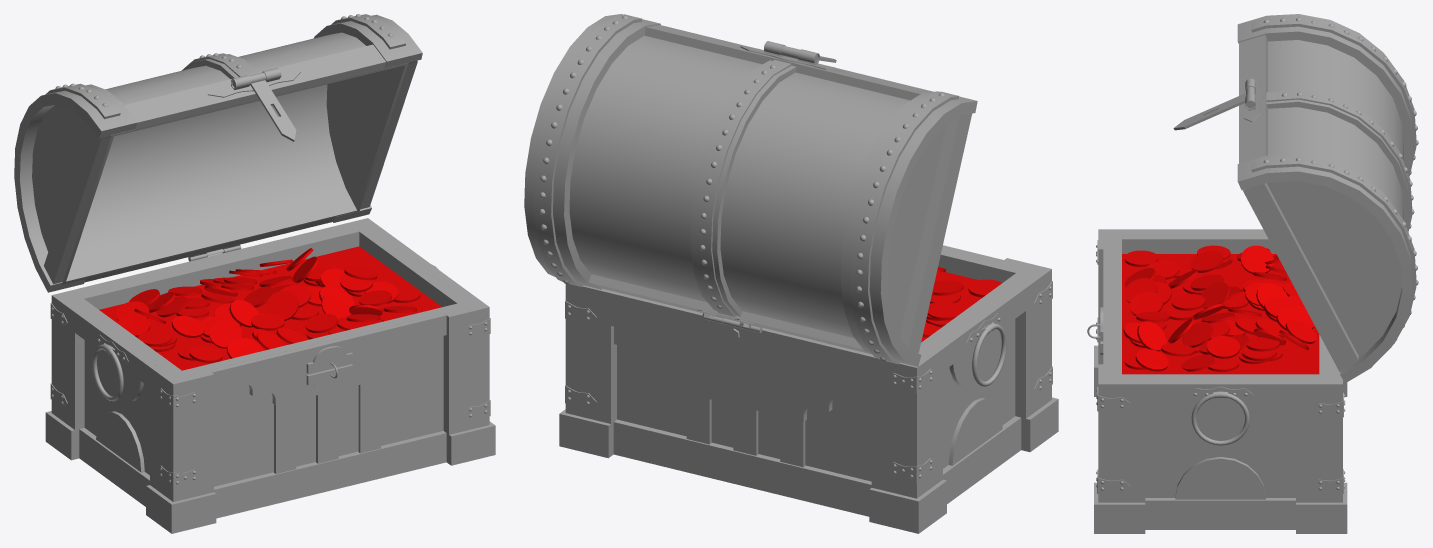
Rendered from SM_Treasure_Box_04.fbx.
3 views of the same model, side by side, from view 1: azimuth 30°, elevation 25°; view 2: azimuth 150°, elevation 25°; view 3: azimuth 270°, elevation 25° (orthographic). The views are drawn at different scales.
Visible parts, largest first — view 1: SM_Treasure_Box_04; view 2: SM_Treasure_Box_04; view 3: SM_Treasure_Box_04.
Boxes of the visible parts, x1,y1,x2,y2 form: SM_Treasure_Box_04: (14,14,495,533); SM_Treasure_Box_04: (524,14,1058,533); SM_Treasure_Box_04: (1087,14,1418,533).
Bounding box in the file's own units: 61.34 × 52.93 × 64.63.
